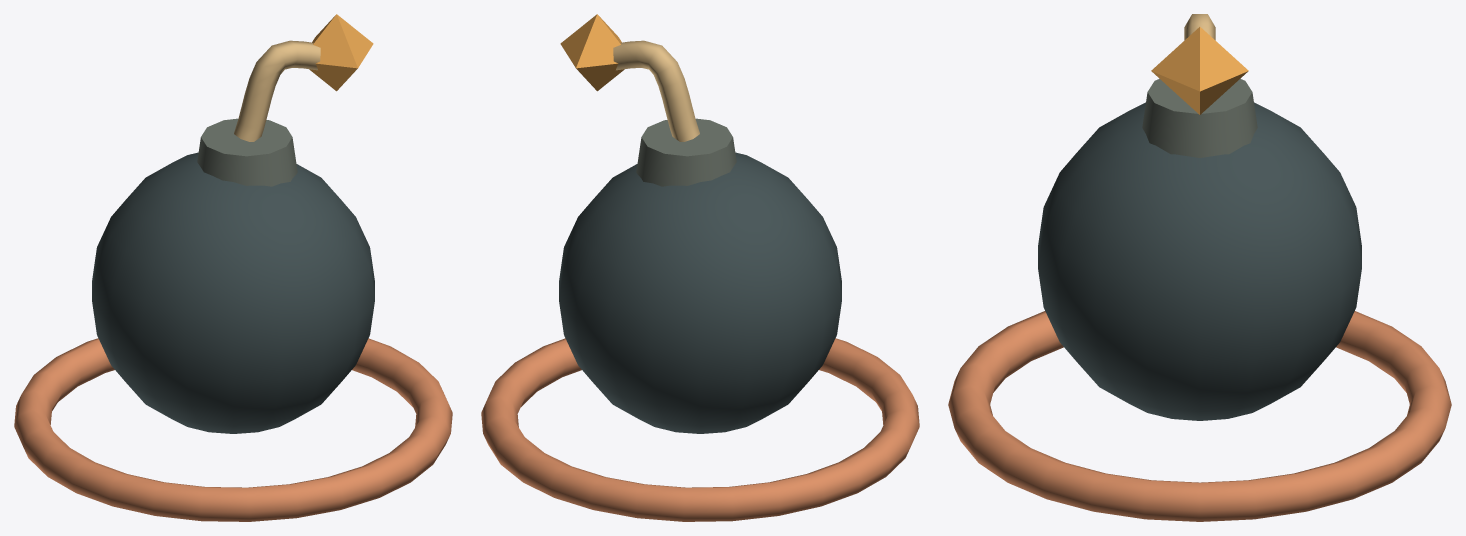
File: bomb.glb
The picture shows the model from 3 angles, left to right: view 1: azimuth 30°, elevation 25°; view 2: azimuth 150°, elevation 25°; view 3: azimuth 270°, elevation 25°; orthographic projection. The views are drawn at different scales.
Parts seen in each view (by area): view 1: 炸弹 · 小心绕行; view 2: 炸弹 · 小心绕行; view 3: 炸弹 · 小心绕行.
Part boxes in pixels (x1,y1,x2,y2): 炸弹 · 小心绕行: (14,14,452,521); 炸弹 · 小心绕行: (481,14,919,521); 炸弹 · 小心绕行: (948,14,1451,521).
Bounding box in the file's own units: 1.44 × 1.43 × 1.44.
